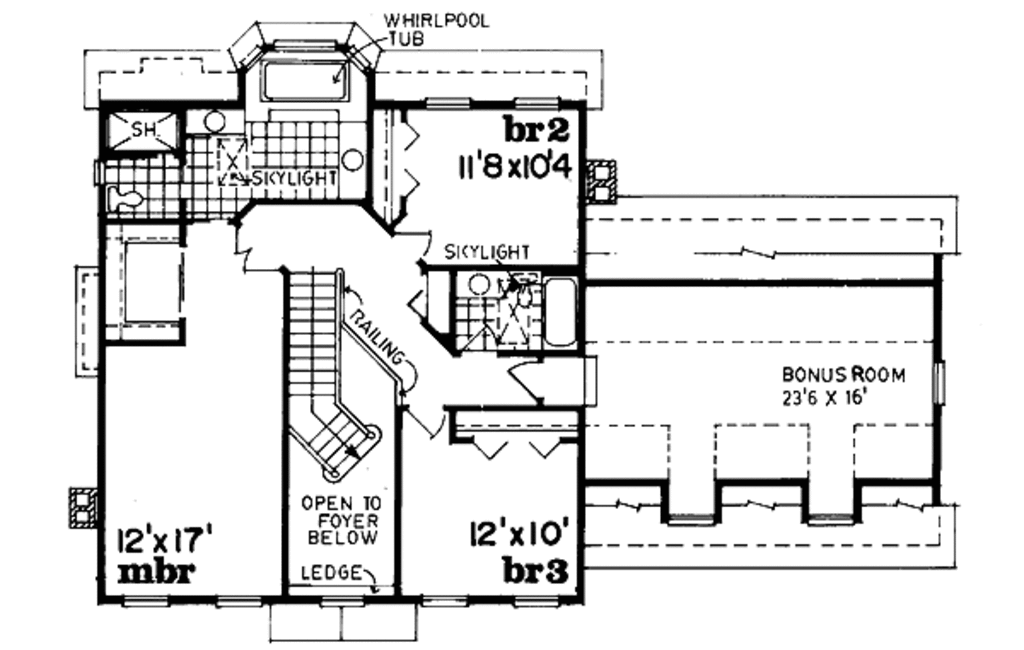door: (229, 224, 281, 280), (383, 228, 434, 262), (507, 359, 543, 405)
large_sink: (100, 180, 150, 212)
small_sink: (333, 119, 372, 208), (180, 105, 245, 137)
stairs: (282, 266, 377, 486)
tub: (257, 58, 352, 107), (543, 276, 578, 352)
windows: (509, 90, 566, 114), (665, 510, 717, 531), (317, 588, 363, 611), (212, 592, 264, 612), (803, 510, 855, 530), (421, 93, 473, 112), (116, 590, 169, 607), (416, 594, 476, 608), (512, 591, 561, 608), (932, 357, 946, 409)
